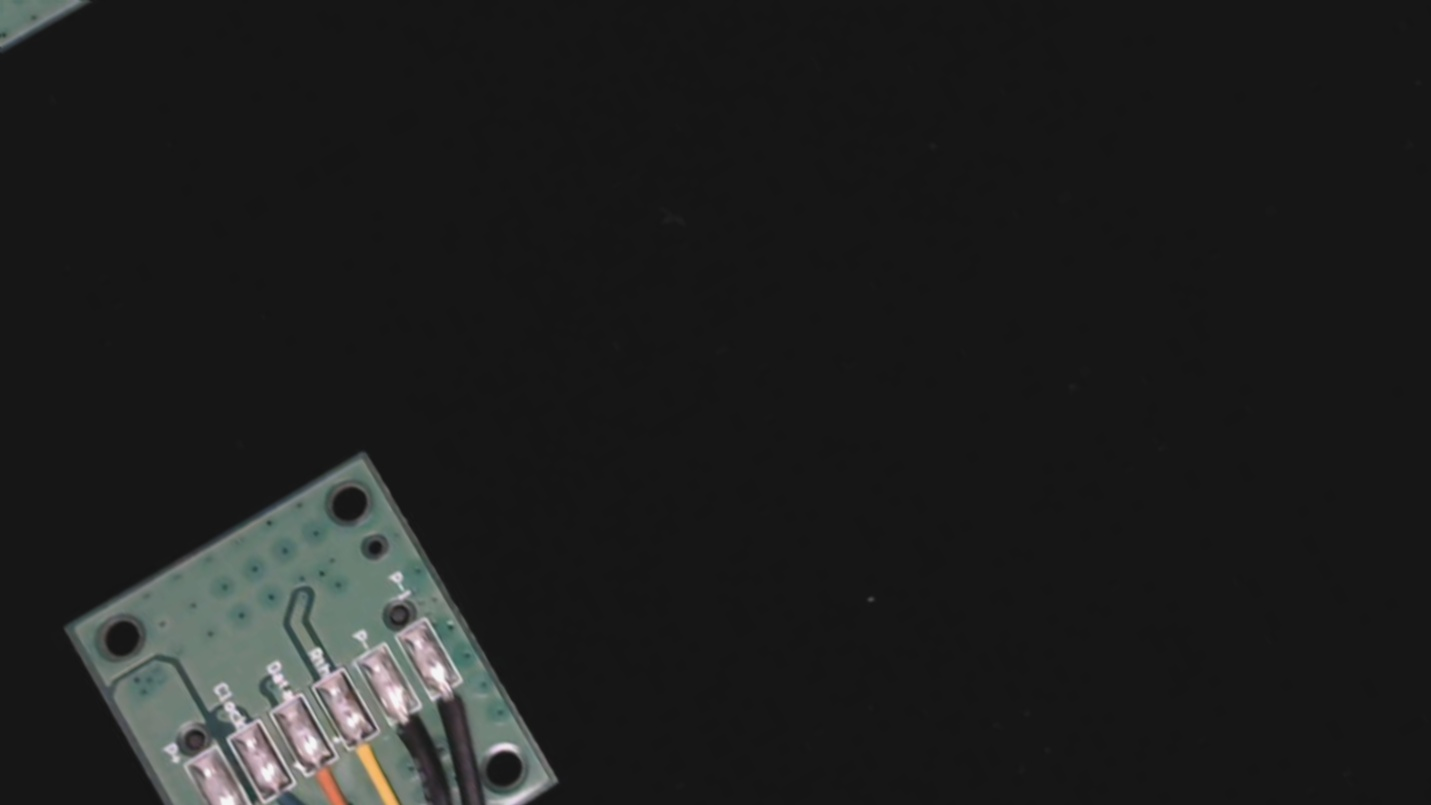Black: (375, 689, 452, 775)
Black1: (415, 664, 497, 754)
Green: (247, 765, 322, 805)
Orange: (289, 741, 364, 805)
Red: (206, 792, 288, 805)
Yellow: (333, 714, 412, 800)
